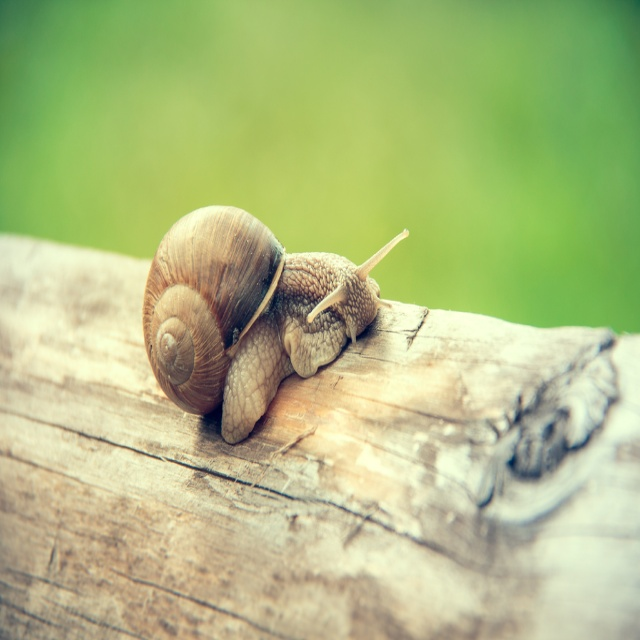Snail: (140, 201, 411, 447)
